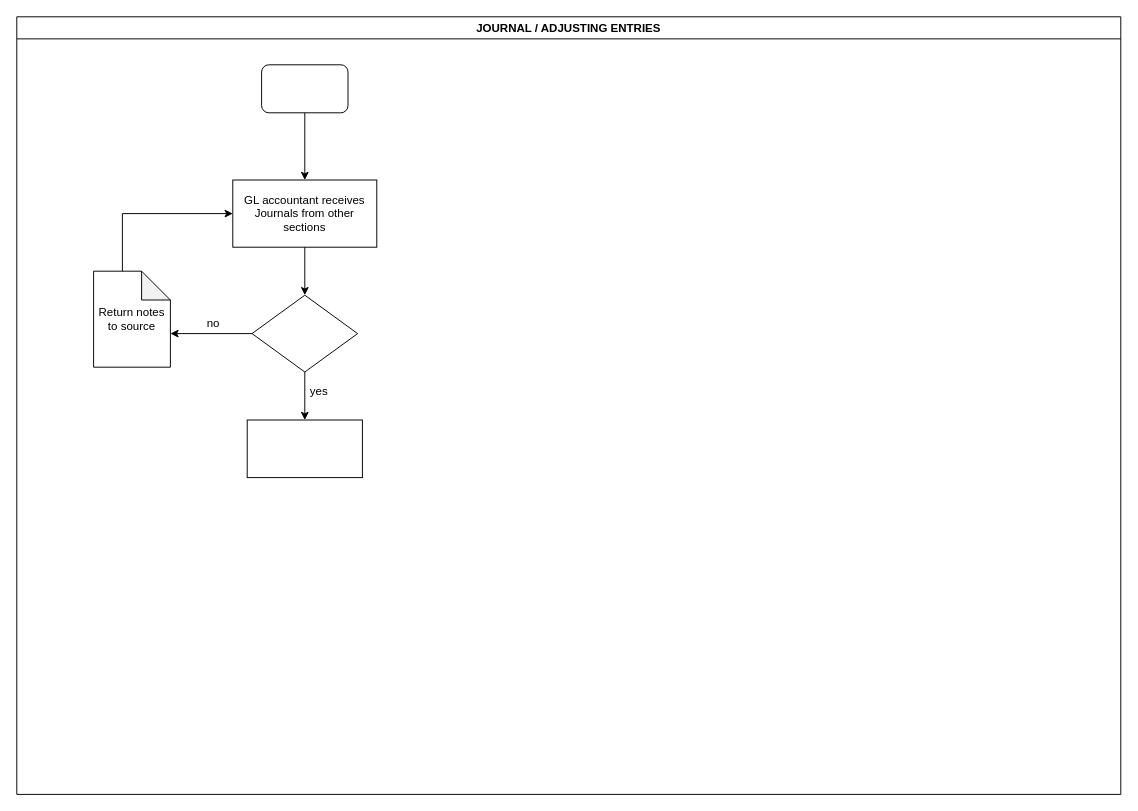
Some shapes in this 1138 by 811 pixel diagram are drawn without their labels. Here are the shapes that lost their labels. From the top down, the centre of each, then its label:
the point at 304,88: Start
the point at 304,333: accurate/ complete?
